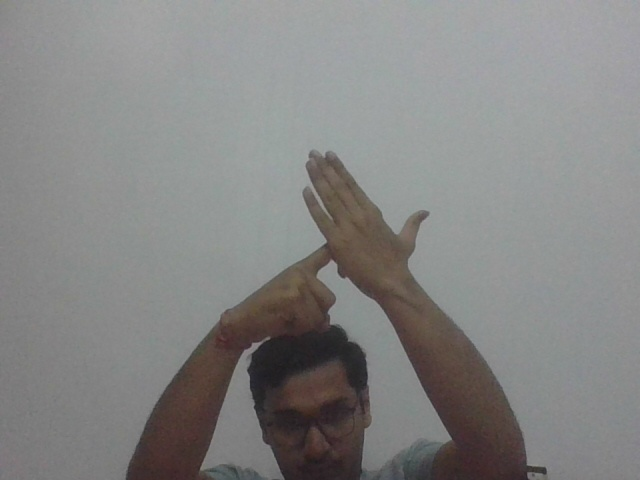R: (242, 147, 432, 334)
